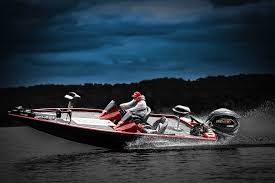boat: (8, 89, 242, 154)
